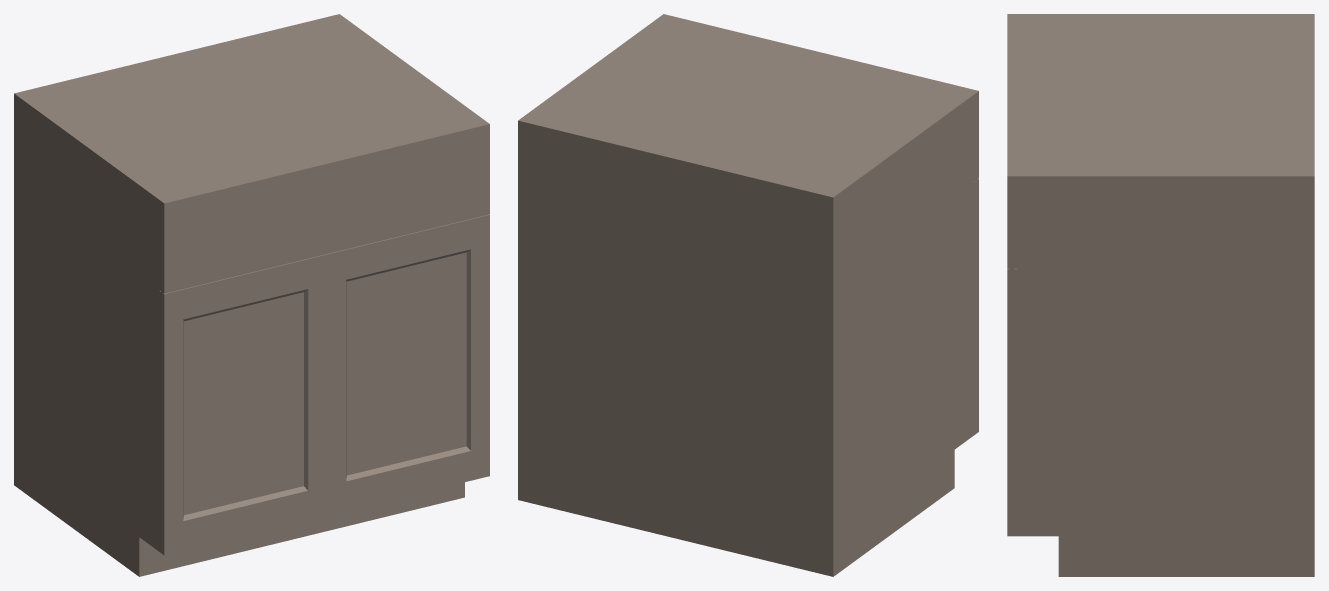
The model's file is Base-Cabinet-Double-Door-One-Drawer-24-Deep_std_001_W30in.glb.
3 renders of one model, left to right at view 1: azimuth 30°, elevation 25°; view 2: azimuth 150°, elevation 25°; view 3: azimuth 270°, elevation 25°, orthographic. The views are drawn at different scales.
Visible parts, largest first — view 1: Base-Cabinet-Double-Door-One-Drawer-24-Deep.std.001_W30in; view 2: Base-Cabinet-Double-Door-One-Drawer-24-Deep.std.001_W30in; view 3: Base-Cabinet-Double-Door-One-Drawer-24-Deep.std.001_W30in.
Boxes of the visible parts, x1=… form: Base-Cabinet-Double-Door-One-Drawer-24-Deep.std.001_W30in: x1=14, y1=14, x2=489, y2=576; Base-Cabinet-Double-Door-One-Drawer-24-Deep.std.001_W30in: x1=518, y1=14, x2=978, y2=576; Base-Cabinet-Double-Door-One-Drawer-24-Deep.std.001_W30in: x1=1007, y1=14, x2=1314, y2=576.
Bounding box in the file's own units: 0.762 × 0.8763 × 0.6096.
